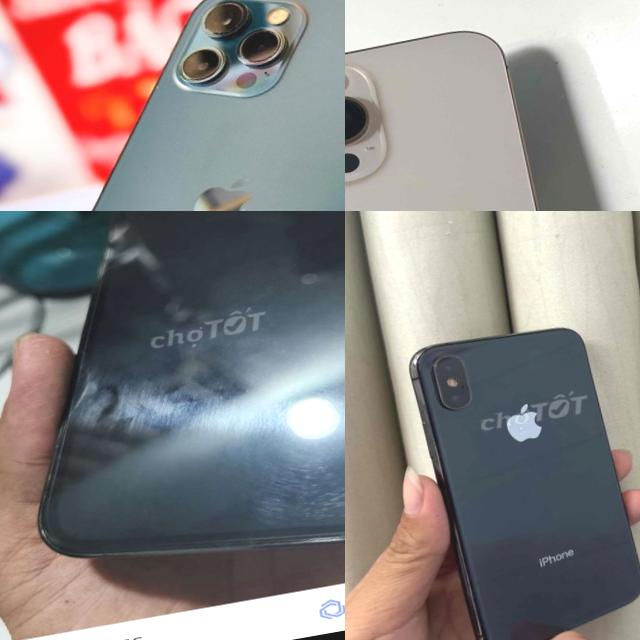gen_12_13: (0, 211, 345, 607), (0, 0, 345, 211)
gen_16: (345, 32, 537, 211)
gen_x_xs: (409, 328, 640, 640)
scratch: (77, 323, 345, 580)
